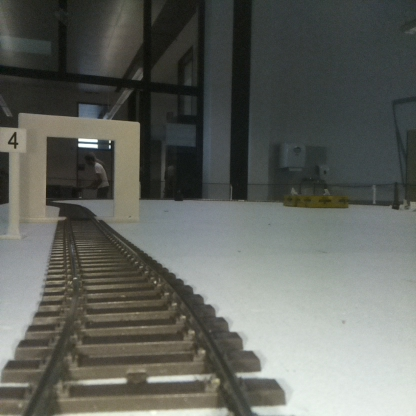white-info-4: (0, 127, 26, 238)
